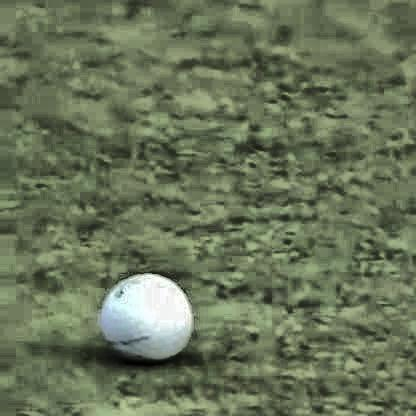golfball: (97, 271, 191, 360)
